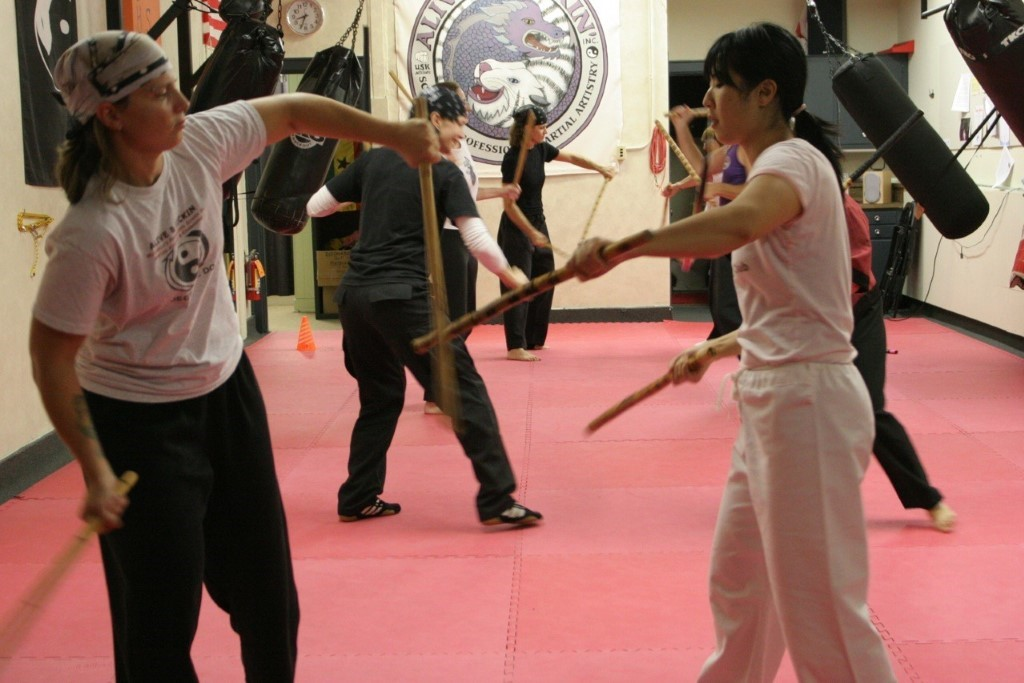baston_e: (423, 236, 634, 354), (2, 480, 126, 645), (407, 109, 457, 407), (595, 354, 704, 437), (849, 113, 916, 183), (571, 179, 607, 253), (656, 126, 698, 181), (506, 123, 530, 193)
baston_v: (114, 461, 147, 495), (622, 223, 662, 250), (430, 408, 464, 438), (696, 345, 723, 363), (410, 91, 433, 112), (409, 334, 427, 356), (581, 421, 597, 443), (525, 106, 539, 122), (913, 105, 928, 118), (661, 107, 678, 118), (606, 161, 617, 173), (892, 348, 899, 357), (653, 116, 659, 125), (666, 181, 672, 189)
